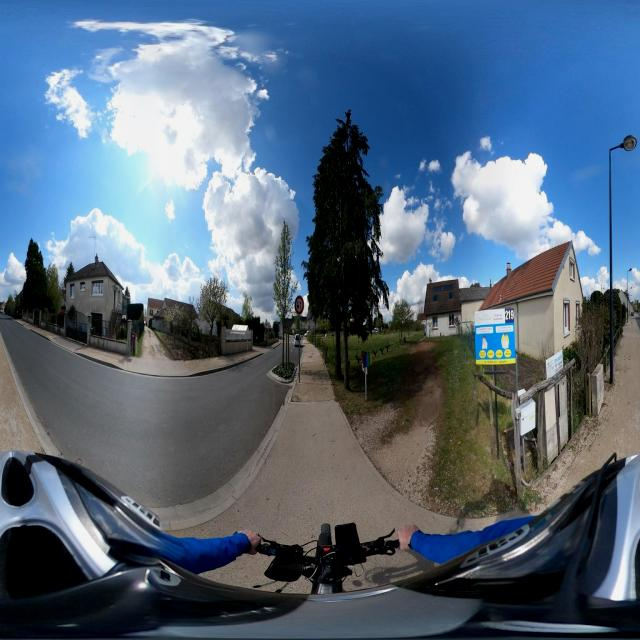car: (294, 333, 302, 348)
